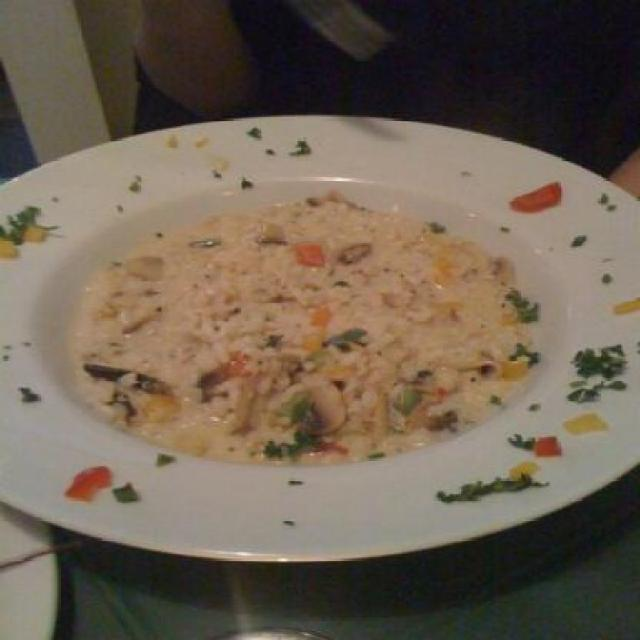Risotto: (59, 196, 558, 449)
